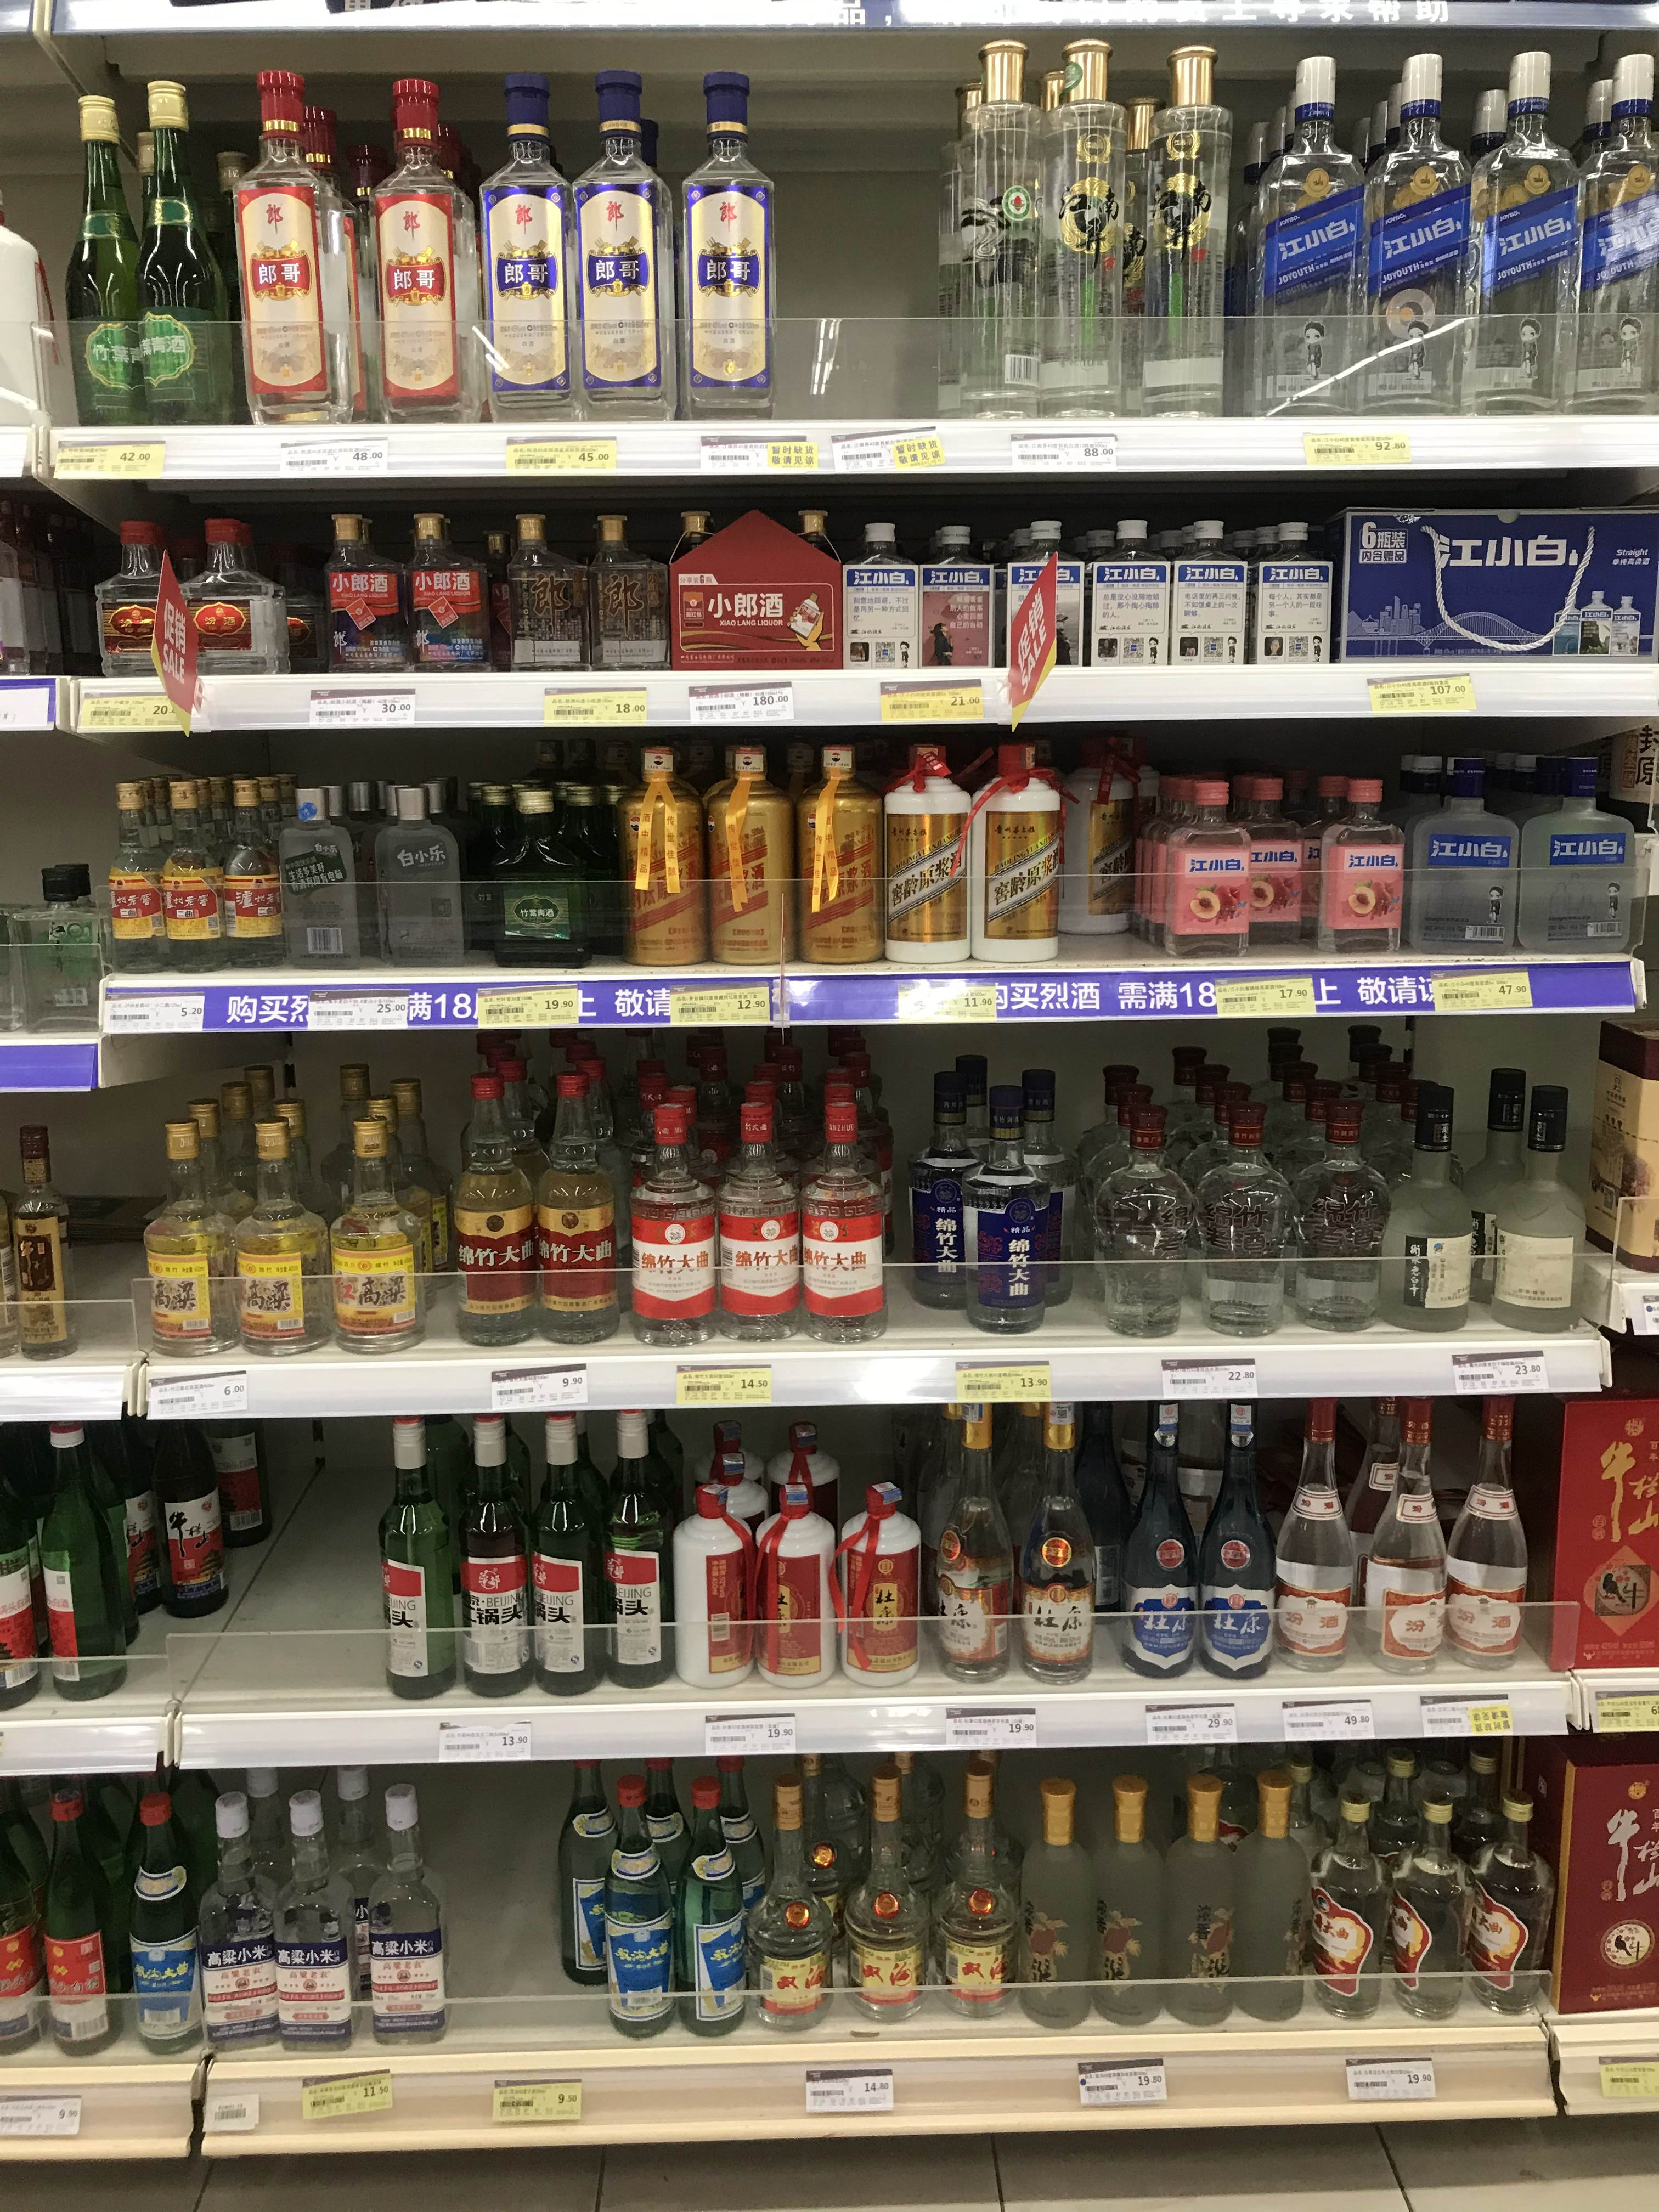bag: (660, 507, 824, 658)
bottle: (1241, 49, 1368, 421), (1358, 42, 1476, 409), (1490, 52, 1603, 415), (1021, 37, 1122, 421), (1126, 54, 1229, 416), (235, 70, 340, 421), (565, 71, 671, 415), (943, 38, 1039, 409), (371, 75, 472, 420), (1558, 54, 1656, 409), (127, 80, 227, 428), (471, 75, 570, 420), (676, 73, 774, 415), (59, 96, 152, 428), (37, 1400, 132, 1702), (1084, 1096, 1199, 1336), (1183, 1104, 1298, 1332), (1011, 1388, 1100, 1681), (373, 1407, 462, 1698), (1441, 1390, 1532, 1672), (1194, 1386, 1281, 1679), (64, 1379, 155, 1660), (451, 1407, 537, 1700), (1152, 1777, 1251, 2027), (1375, 1085, 1476, 1331), (1269, 1385, 1354, 1674), (1117, 1388, 1201, 1681), (1363, 1395, 1450, 1676), (1290, 1103, 1398, 1327), (451, 1069, 538, 1346), (1225, 1768, 1319, 2024), (535, 1068, 622, 1343), (927, 1393, 1011, 1679), (1514, 751, 1629, 958), (526, 1407, 608, 1695), (35, 1780, 120, 2055), (192, 1792, 284, 2047), (1408, 756, 1523, 960), (361, 1782, 448, 2043), (263, 1789, 352, 2045), (599, 1402, 676, 1688), (967, 1080, 1051, 1338), (1080, 1777, 1166, 2027), (629, 1096, 714, 1345), (122, 1796, 204, 2055), (713, 1097, 798, 1343), (802, 1092, 884, 1346), (843, 1766, 925, 2019), (1466, 1791, 1558, 2012), (1012, 1778, 1094, 2027), (936, 1764, 1016, 2019), (748, 1777, 828, 2029), (884, 742, 972, 968), (237, 1115, 321, 1353), (971, 744, 1061, 961), (310, 1787, 389, 2038), (146, 1372, 227, 1613), (1304, 1787, 1385, 2022), (329, 1116, 411, 1350), (620, 740, 704, 968), (908, 1064, 988, 1301), (802, 747, 887, 968), (573, 1777, 650, 2020), (758, 1456, 840, 1684), (711, 744, 795, 967), (1387, 1792, 1467, 2024), (1060, 738, 1155, 932), (5, 1120, 82, 1357), (551, 1754, 624, 1996), (676, 1463, 751, 1688), (1150, 786, 1249, 953), (371, 786, 465, 961), (14, 866, 113, 1031), (148, 1129, 220, 1357), (493, 787, 584, 967), (680, 1815, 751, 2038), (603, 1827, 676, 2041), (840, 1487, 918, 1679), (277, 786, 359, 968), (1319, 777, 1403, 949), (186, 523, 275, 676), (537, 782, 612, 961), (992, 523, 1080, 672), (326, 514, 408, 674), (103, 523, 185, 678), (1159, 523, 1244, 669), (831, 524, 918, 665), (408, 512, 484, 672), (498, 514, 577, 667), (112, 777, 171, 979), (1246, 528, 1330, 669), (580, 517, 659, 665), (164, 779, 223, 974), (221, 779, 282, 965), (1237, 782, 1307, 944), (207, 1383, 265, 1568), (1091, 524, 1166, 665), (915, 528, 990, 667)
box: (1342, 498, 1659, 667), (1544, 1378, 1654, 1681), (1546, 1740, 1657, 2013), (1476, 1083, 1584, 1329), (1588, 1024, 1659, 1264)
others: (0, 472, 84, 674)
